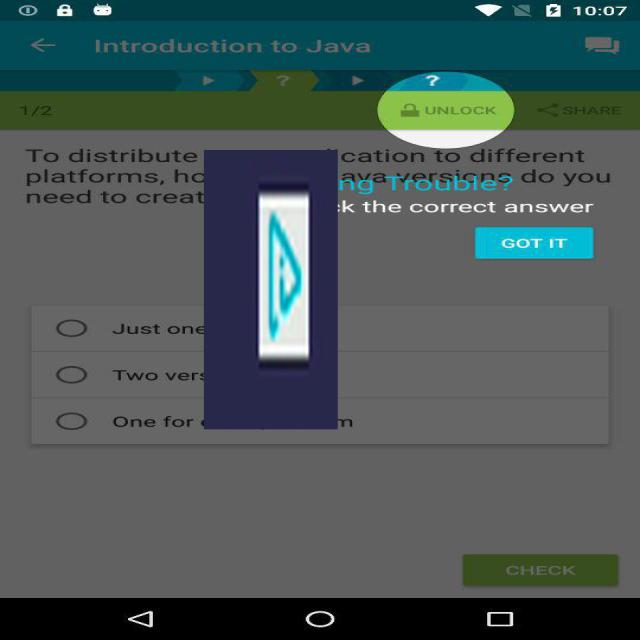sneaking: (204, 150, 338, 429)
